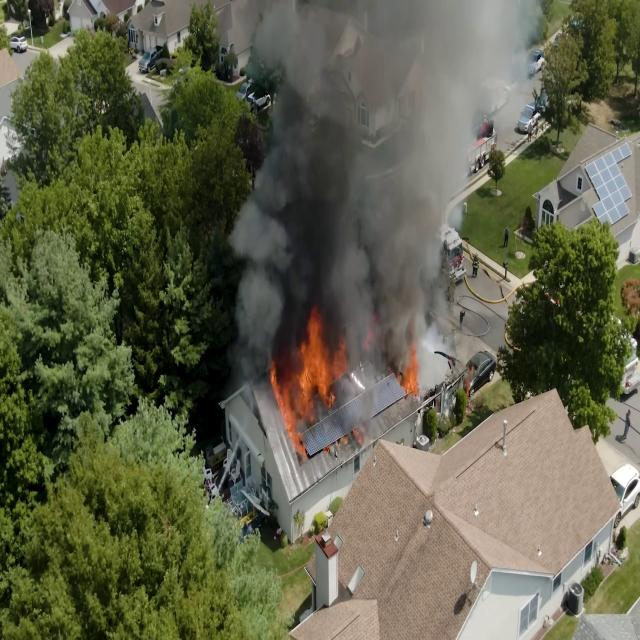fire: (262, 312, 364, 441), (396, 348, 421, 395)
smoke: (258, 36, 424, 306), (390, 34, 445, 307)
